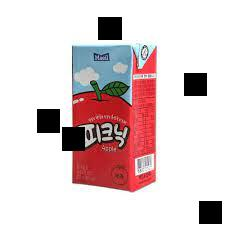picnic_apple: (68, 42, 162, 189)
